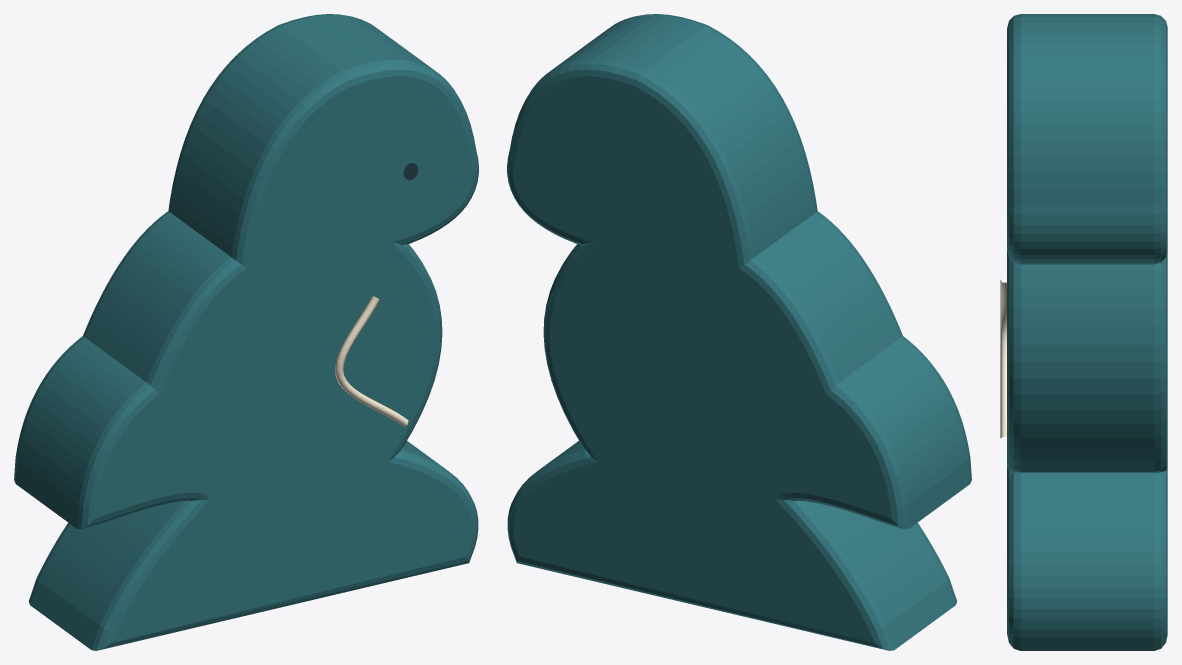
The model's file is meeple-0.glb.
3 views of the same model, side by side, from view 1: azimuth 30°, elevation 25°; view 2: azimuth 150°, elevation 25°; view 3: azimuth 270°, elevation 25° (orthographic). The views are drawn at different scales.
Visible parts, largest first — view 1: meeple-0-강치; view 2: meeple-0-강치; view 3: meeple-0-강치.
Part boxes in pixels (x1,y1,x2,y2): meeple-0-강치: (14,14,478,650); meeple-0-강치: (507,14,971,650); meeple-0-강치: (1000,14,1167,650).
Size of the model in its own units: 0.024 by 0.03 by 0.008.
